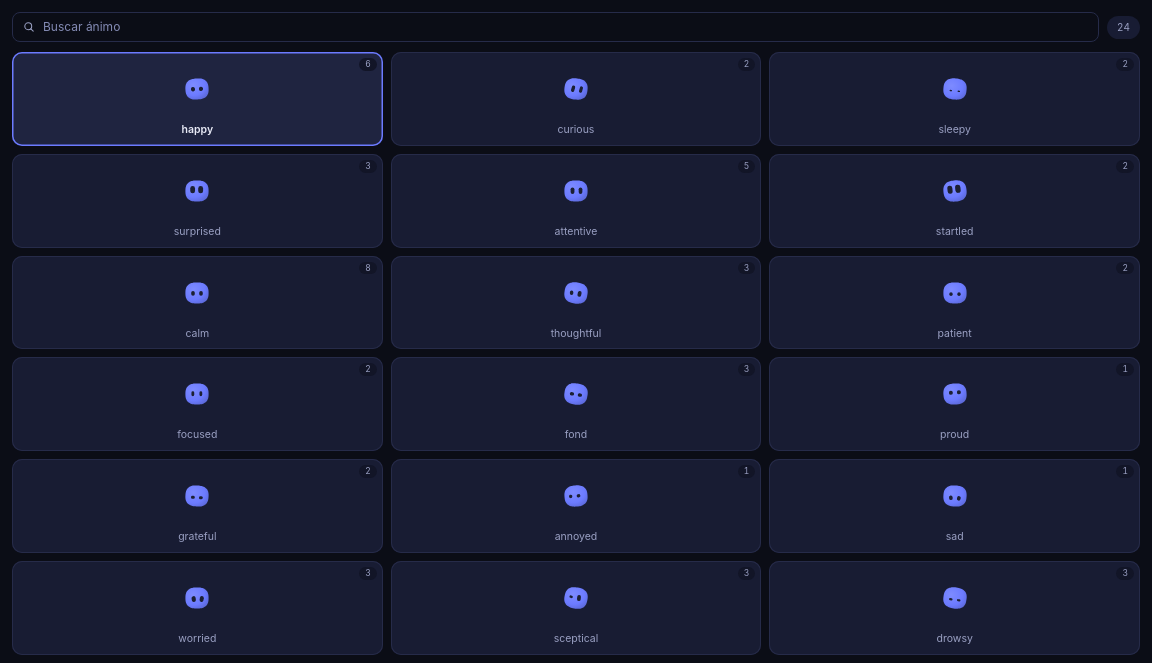
mood grid (FR-4.8, FR-4.9) › counts what is on screen, not what the library holds
This screenshot has width=1152, height=663.
Expected: the text with test id "mood-count" reads "24", [1117,20,1130,32]
Step 1. Type "happy" into the search field labelled "Buscar ánimo" → (566, 27), box [43,13,1088,41]
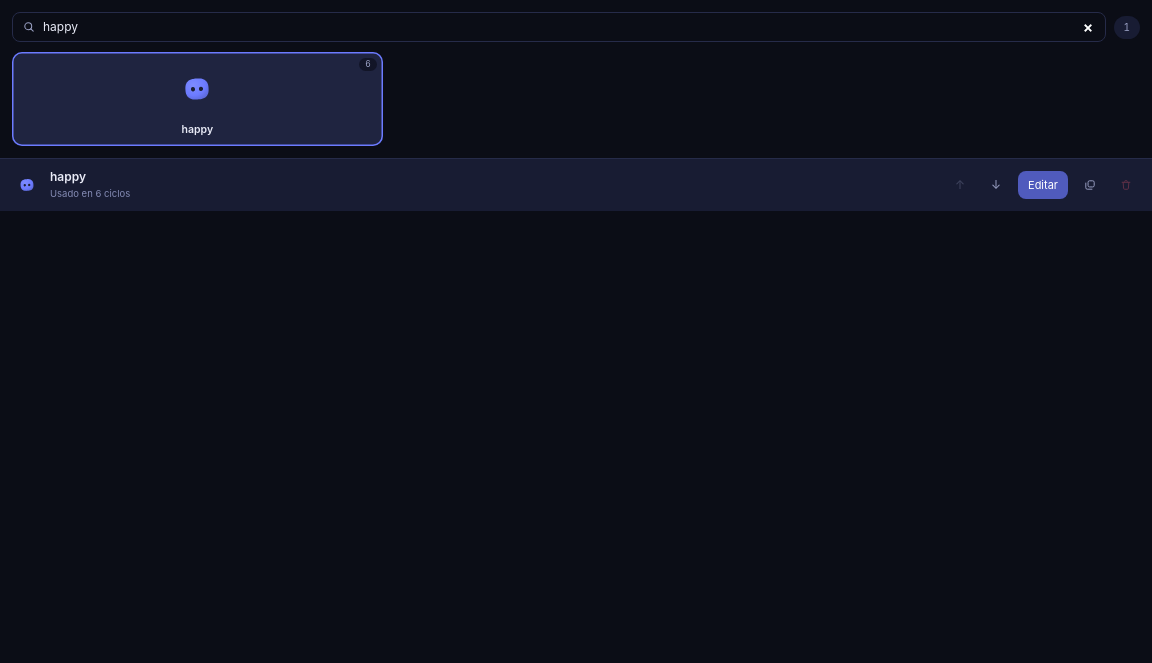
Expected: the text with test id "mood-count" reads "1", [1124,20,1130,32]
